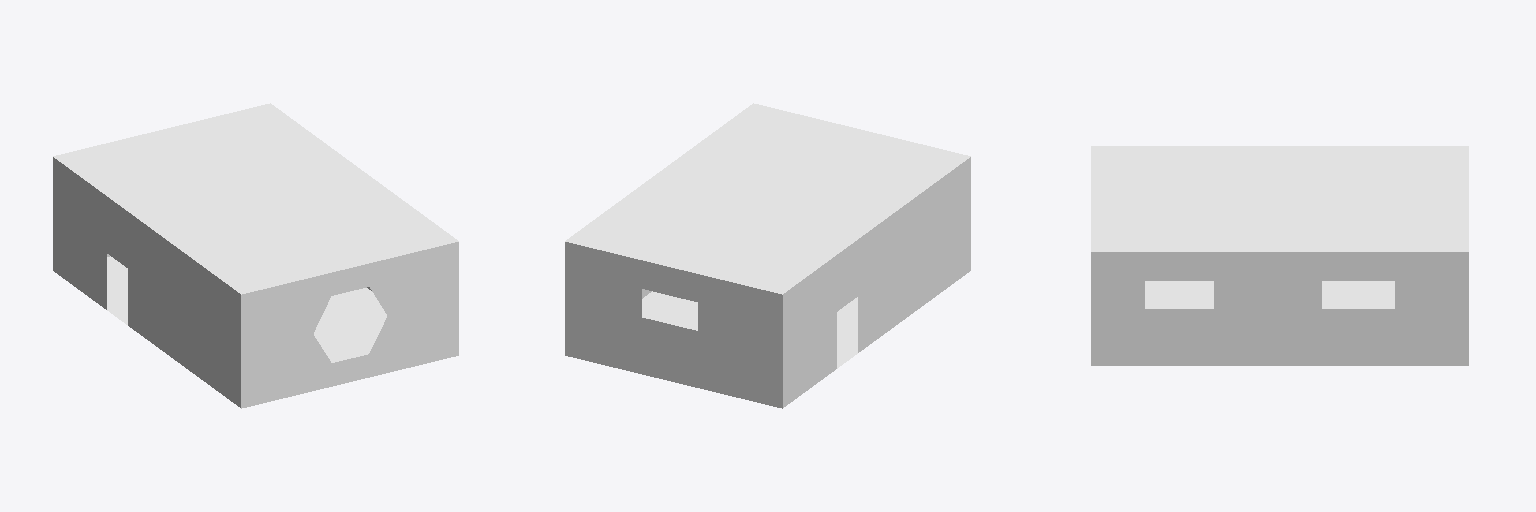
The model's file is space_module1.obj.
3 renders of one model, left to right at view 1: azimuth 30°, elevation 25°; view 2: azimuth 150°, elevation 25°; view 3: azimuth 270°, elevation 25°, orthographic.
Parts seen in each view (by area): view 1: mesh01; view 2: mesh01; view 3: mesh01.
Part boxes in pixels (left/top/right/bottom): mesh01: left=53, top=103, right=458, bottom=408; mesh01: left=565, top=103, right=970, bottom=408; mesh01: left=1091, top=146, right=1468, bottom=365.
Size of the model in its own units: 200 by 100 by 300.